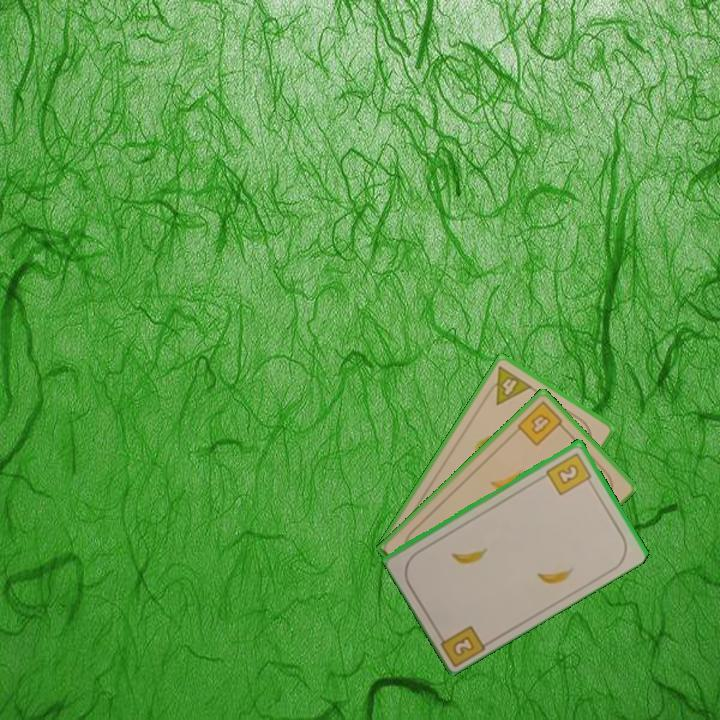2b: (433, 621, 489, 667), (543, 449, 595, 498)
4b: (514, 397, 569, 449)
4p: (481, 362, 535, 408)
